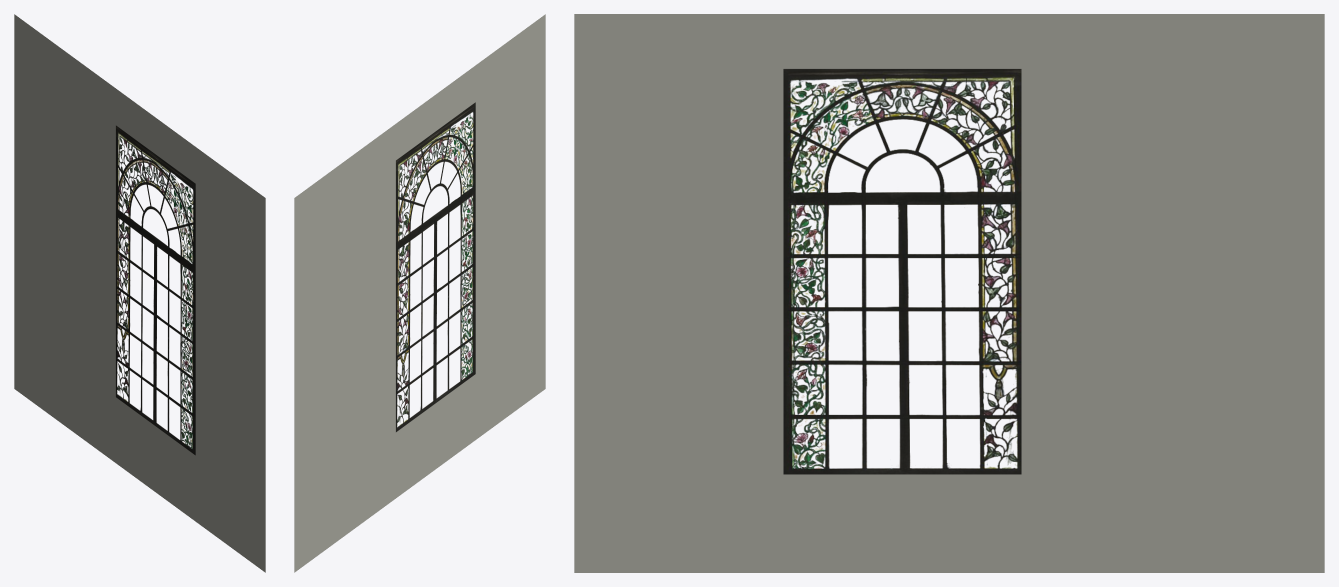
File: A_axis_collider_2_5.glb
3 views of the same model, side by side, from view 1: azimuth 30°, elevation 25°; view 2: azimuth 150°, elevation 25°; view 3: azimuth 270°, elevation 25° (orthographic). The views are drawn at different scales.
Visible parts, largest first — view 1: A_axis_wall_collider.2.5; view 2: A_axis_wall_collider.2.5; view 3: A_axis_wall_collider.2.5.
Boxes of the visible parts, box(x1,y1,x2,y2) form: A_axis_wall_collider.2.5: box(14, 14, 265, 572); A_axis_wall_collider.2.5: box(294, 14, 545, 572); A_axis_wall_collider.2.5: box(574, 14, 1324, 572).
Size of the model in its own units: 0 by 4.96 by 6.04.
Materials: 1 (1 with a texture image).
